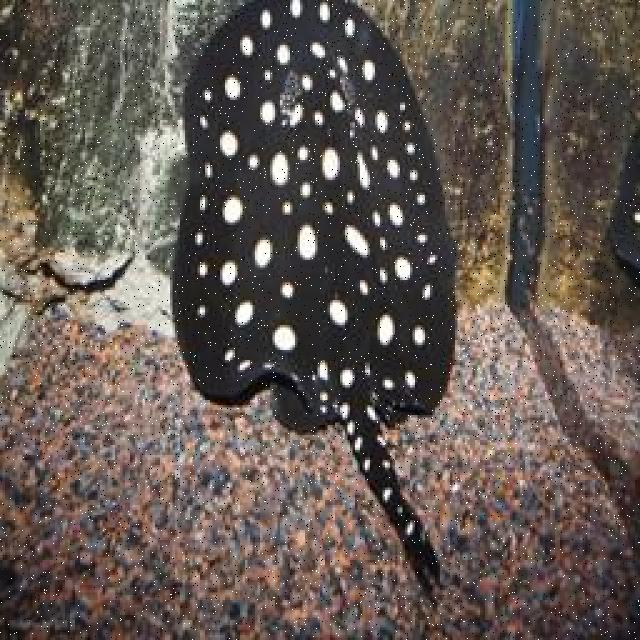fish: (169, 0, 460, 589)
